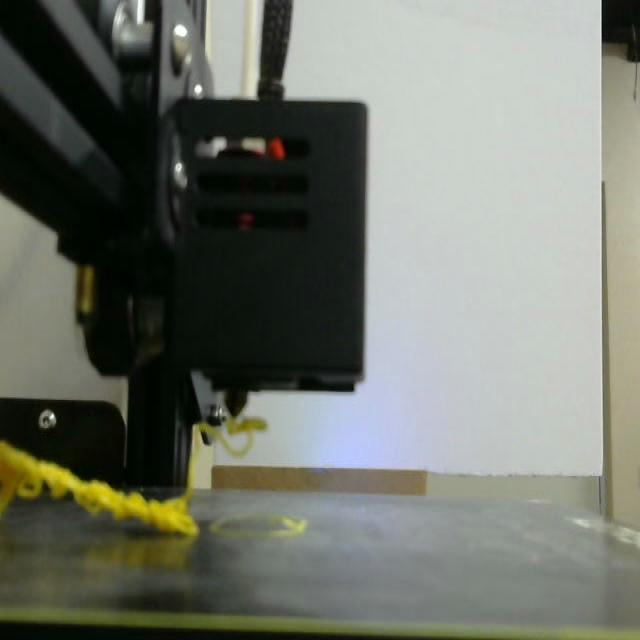spaghetti: (0, 442, 199, 536), (195, 417, 268, 457)
